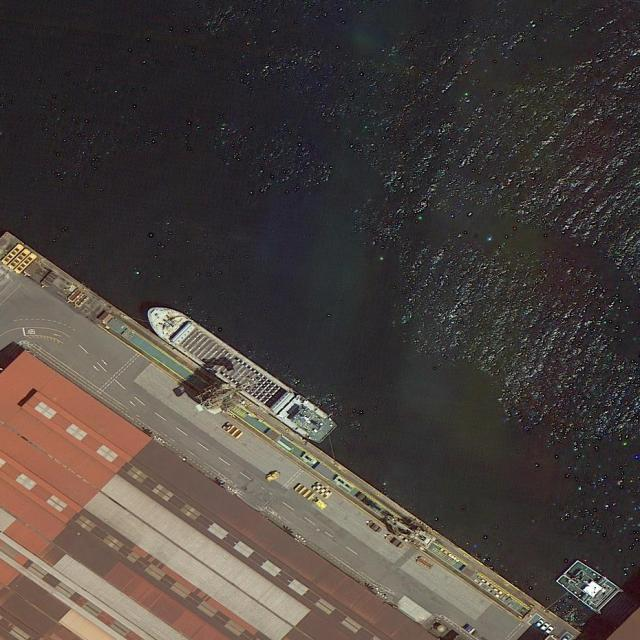Cargo: (137, 294, 341, 449)
